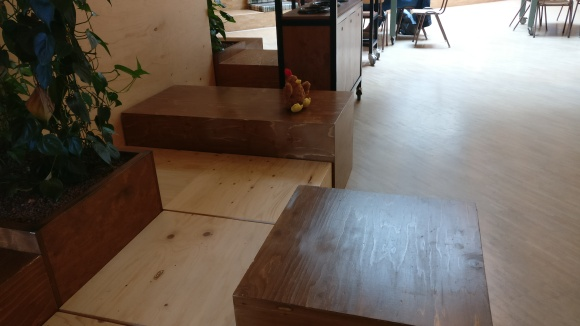chicken: (279, 67, 312, 113)
